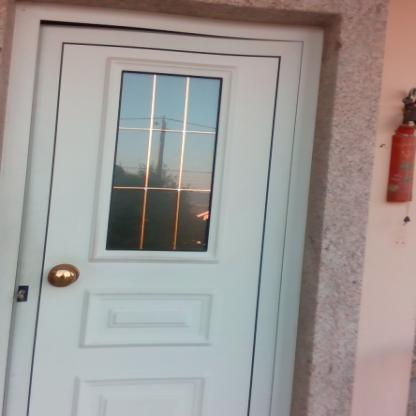door: (37, 21, 278, 416)
knob: (48, 264, 78, 288)
